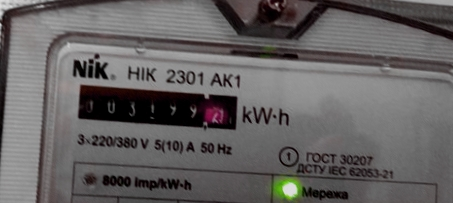0: (83, 95, 97, 114), (106, 95, 118, 115)
1: (148, 95, 158, 114)
3: (127, 99, 137, 118)
6: (211, 110, 221, 127)
9: (188, 102, 199, 120), (168, 99, 178, 117)
screen: (72, 76, 247, 142)
